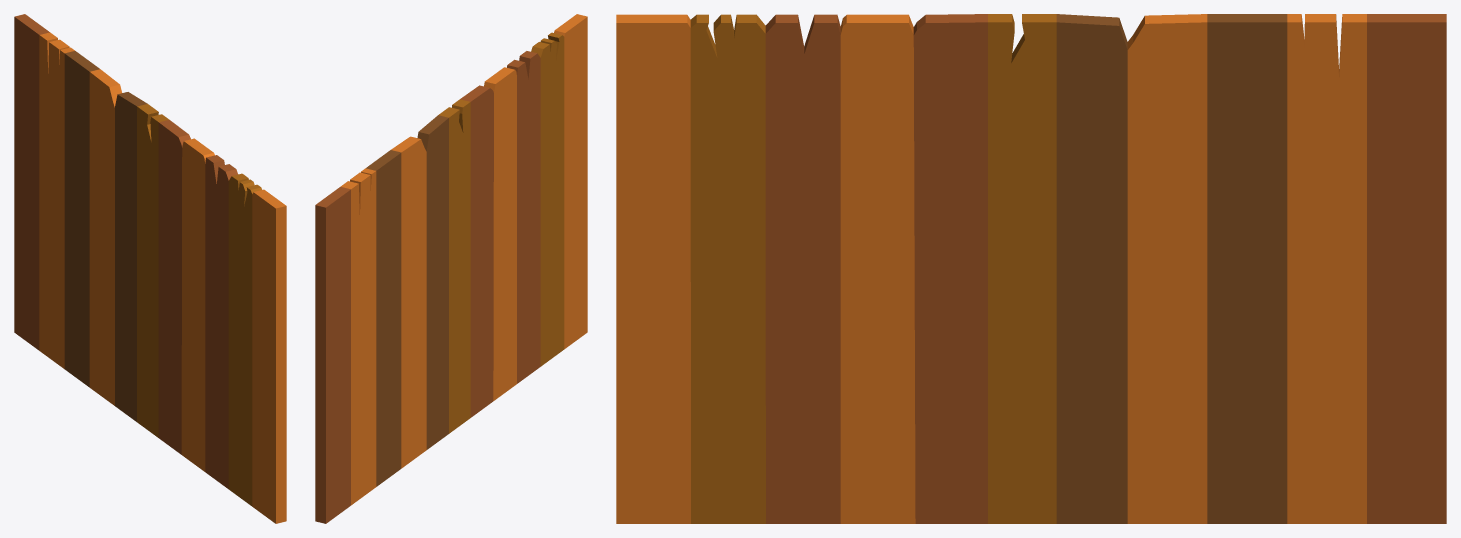
File: barragem.fbx
The picture shows the model from 3 angles, left to right: view 1: azimuth 30°, elevation 25°; view 2: azimuth 150°, elevation 25°; view 3: azimuth 270°, elevation 25°; orthographic projection. The views are drawn at different scales.
Visible parts, largest first — view 1: barragem; view 2: barragem; view 3: barragem.
Part boxes in pixels (<box>): barragem: <box>14,14,286,523</box>; barragem: <box>315,14,587,523</box>; barragem: <box>616,14,1446,523</box>.
Bounding box in the file's own units: 7.13 × 200 × 300.
